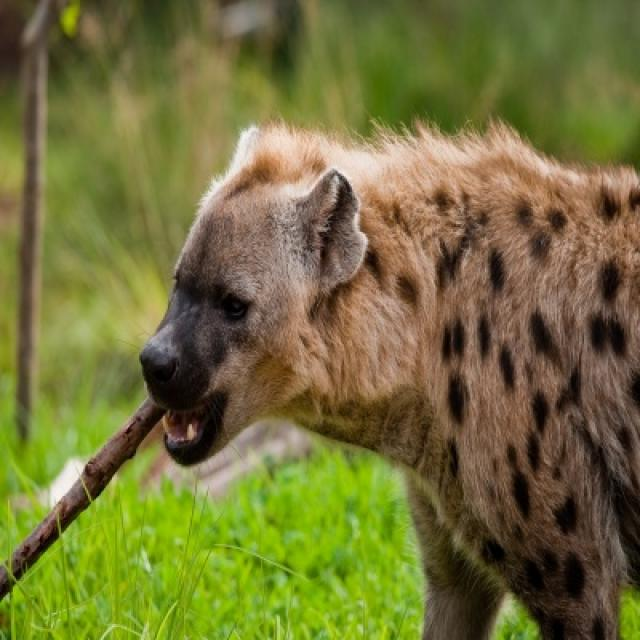hyena: (114, 118, 638, 638)
